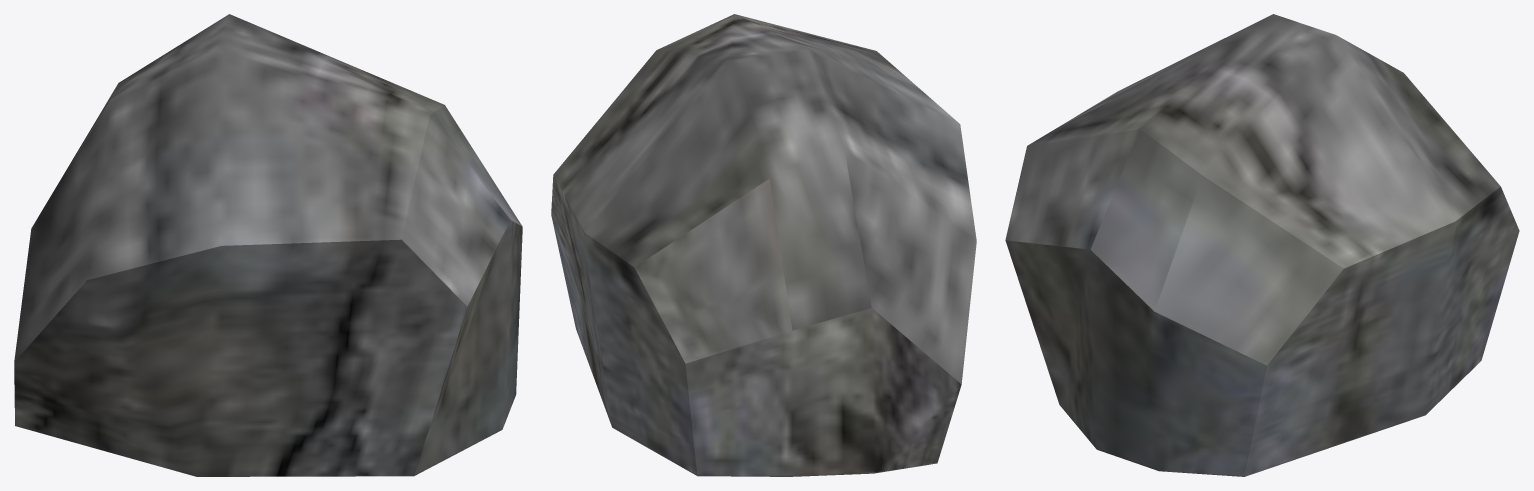
File: rock.fbx
The picture shows the model from 3 angles, left to right: view 1: azimuth 30°, elevation 25°; view 2: azimuth 150°, elevation 25°; view 3: azimuth 270°, elevation 25°; orthographic projection. The views are drawn at different scales.
Visible parts, largest first — view 1: pasted__pCube122; view 2: pasted__pCube122; view 3: pasted__pCube122.
Boxes of the visible parts, box(x1,y1,x2,y2) form: pasted__pCube122: box(14, 14, 522, 476); pasted__pCube122: box(551, 14, 976, 476); pasted__pCube122: box(1005, 14, 1519, 476).
Size of the model in its own units: 1.18 by 0.9249 by 1.23.
